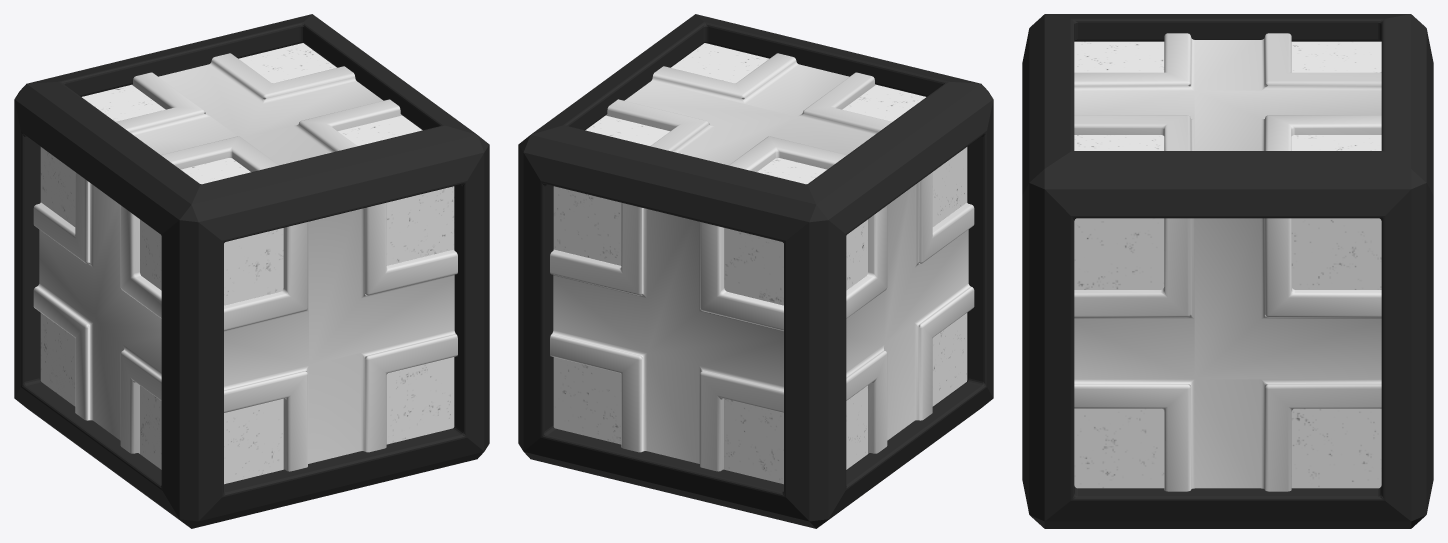
Rendered from space box1.1.fbx.
The picture shows the model from 3 angles, left to right: view 1: azimuth 30°, elevation 25°; view 2: azimuth 150°, elevation 25°; view 3: azimuth 270°, elevation 25°; orthographic projection. The views are drawn at different scales.
Parts seen in each view (by area): view 1: Cube.063; view 2: Cube.063; view 3: Cube.063.
Boxes of the visible parts, x1,y1,x2,y2 form: Cube.063: [14, 14, 489, 528]; Cube.063: [518, 14, 993, 528]; Cube.063: [1022, 14, 1433, 528].
Size of the model in its own units: 2.28 by 2.28 by 2.28.
